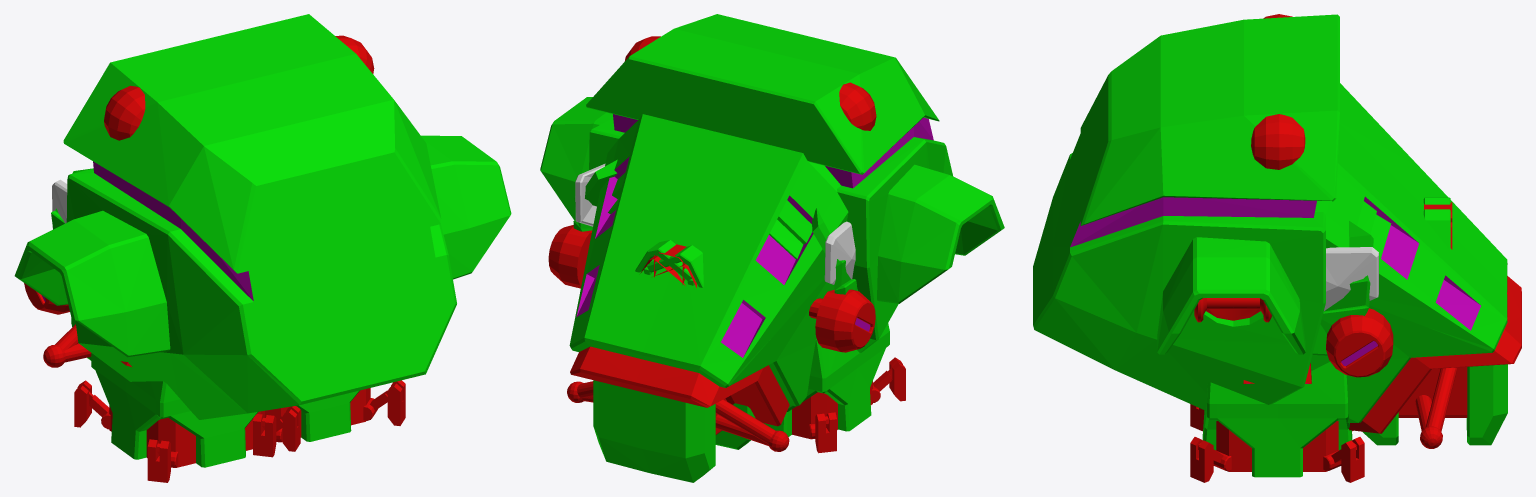
Rendered from MeShooterCut.FBX.
3 views of the same model, side by side, from view 1: azimuth 30°, elevation 25°; view 2: azimuth 150°, elevation 25°; view 3: azimuth 270°, elevation 25° (orthographic). The views are drawn at different scales.
Parts seen in each view (by area): view 1: Torso, RightArm, LeftArm, Head, Jaw; view 2: Torso, RightArm, Head, Jaw, LeftArm, Canon1, Canon2; view 3: Torso, LeftArm, Head, RightArm, Jaw, Canon2.
Boxes of the visible parts, x1,y1,x2,y2 form: Torso: (14,14,511,419); RightArm: (74,35,374,482); LeftArm: (104,85,405,457); Head: (24,168,93,314); Jaw: (52,179,67,227); Torso: (540,14,1004,482); RightArm: (624,36,905,453); Head: (548,159,875,352); Jaw: (575,163,855,284); LeftArm: (839,82,876,130); Canon1: (647,245,703,287); Canon2: (635,240,691,285); Torso: (1033,14,1521,448); LeftArm: (1190,14,1364,482); Head: (1312,221,1393,377); RightArm: (1190,114,1353,431); Jaw: (1324,247,1378,310); Canon2: (1423,209,1452,250).
Size of the model in its own units: 231 by 184 by 226.
